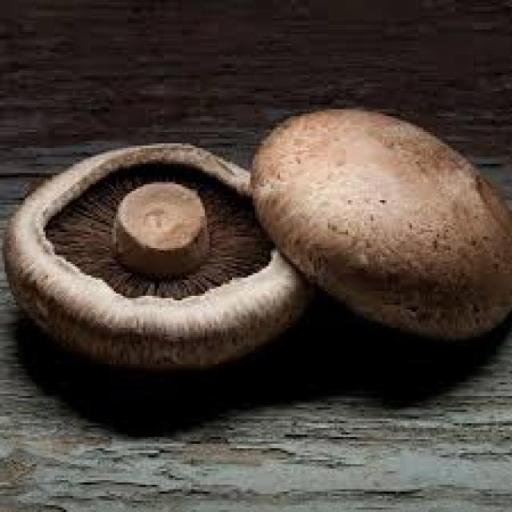Button Mushroom: (7, 128, 346, 397), (249, 104, 512, 349)
